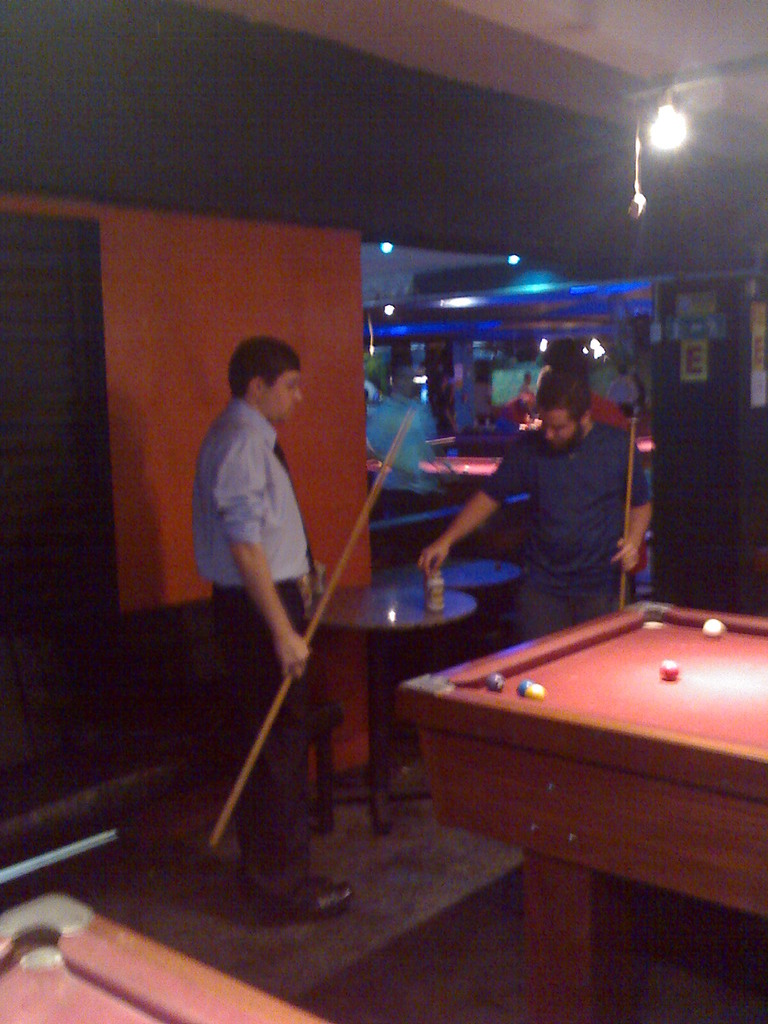Ball: (655, 655, 680, 682), (515, 678, 543, 699), (701, 620, 723, 641), (486, 668, 506, 689)
